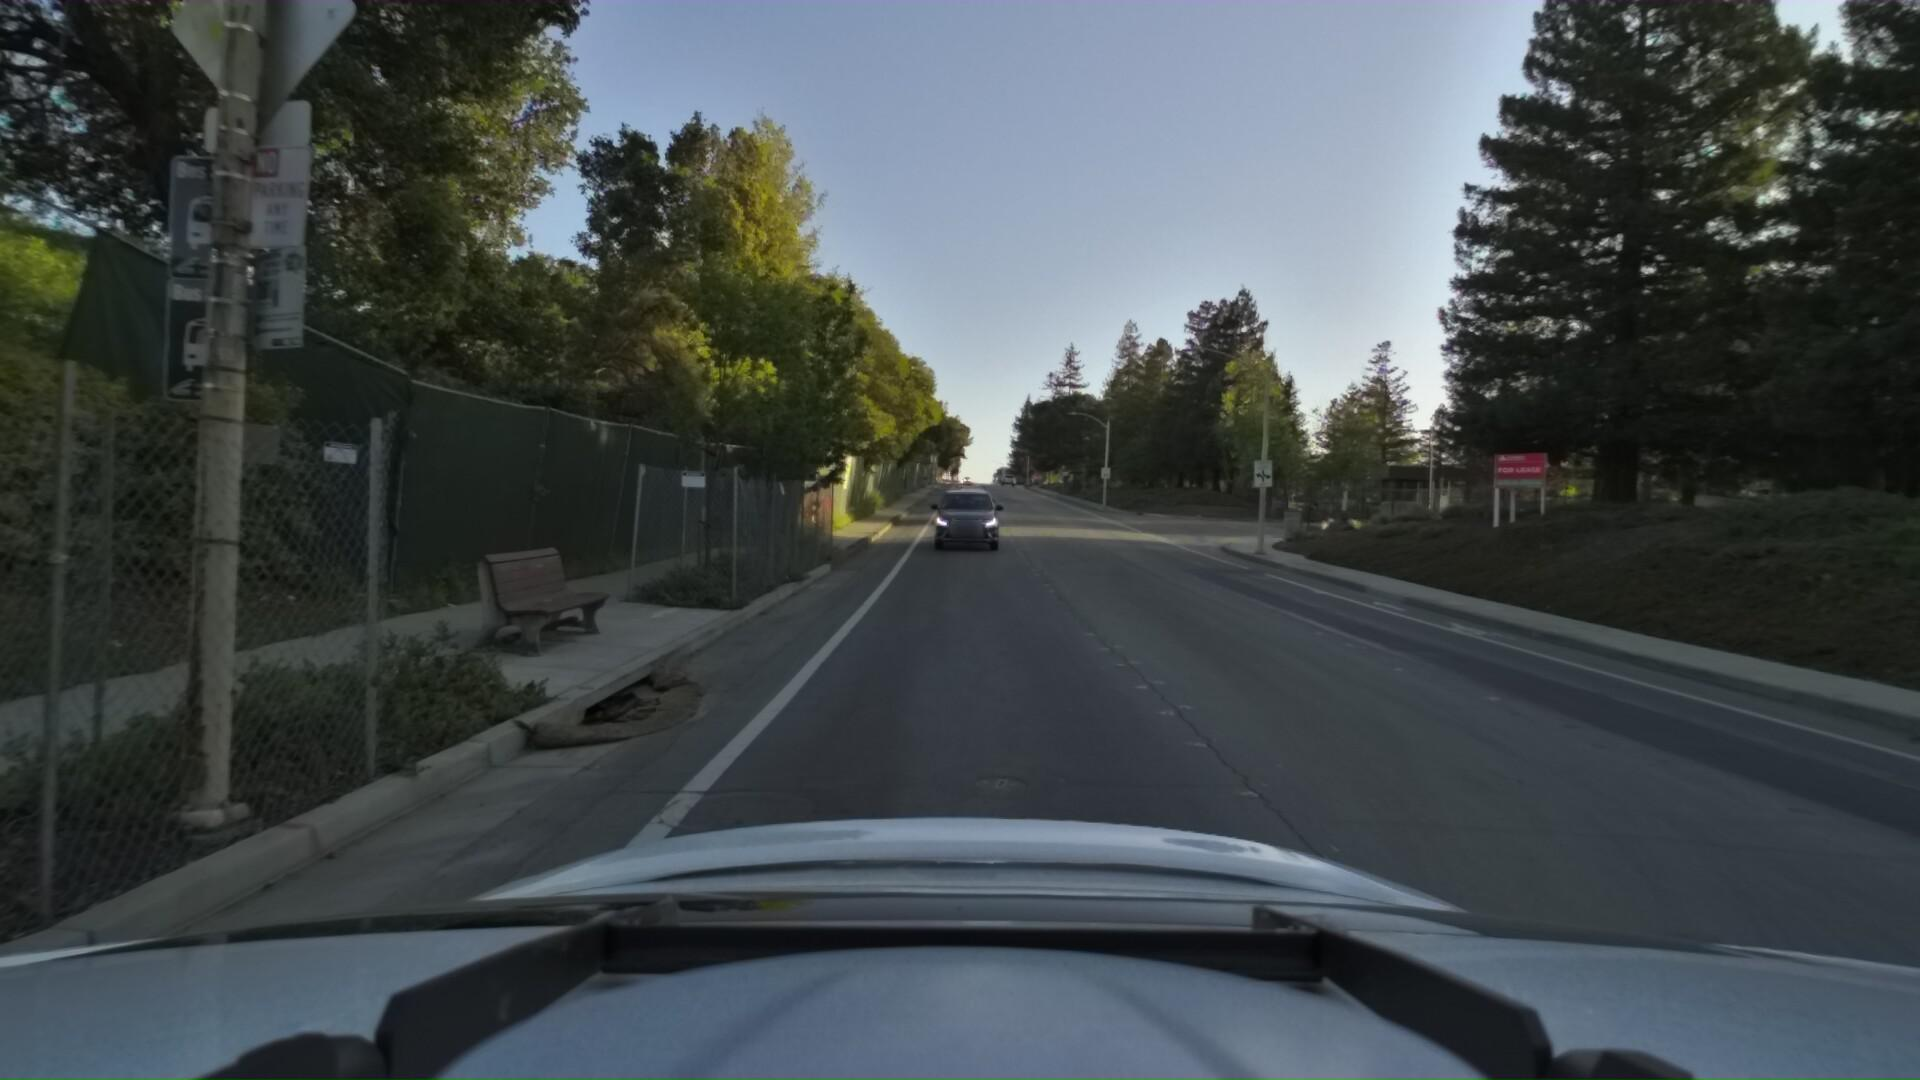car: (924, 477, 1007, 553), (957, 475, 1007, 521)
